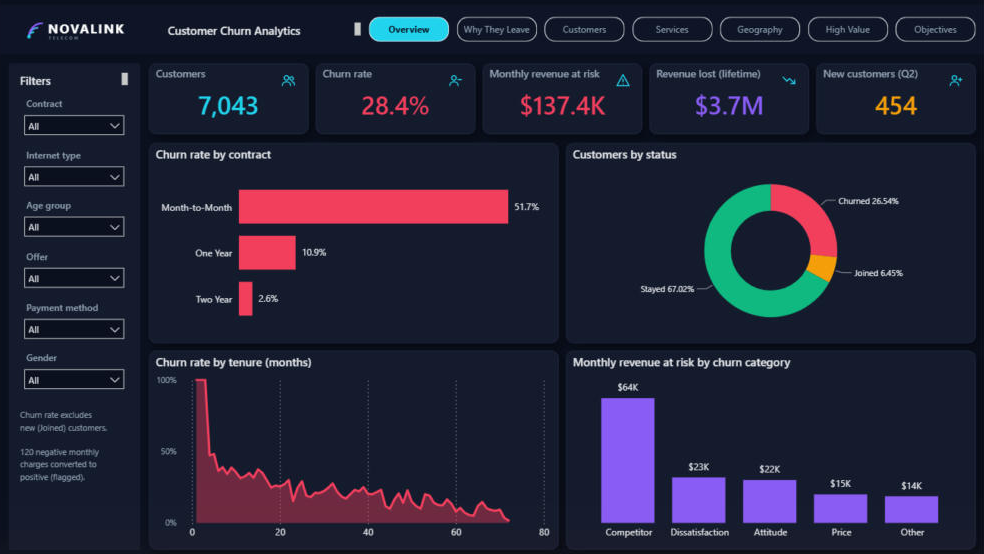

The page's visual inventory and layout, read from the dashboard file:
{"tool":"powerbi","page":{"name":"Overview","canvas":[1280,720],"ordinal":0},"visuals":[{"type":"textbox","box":[0,0,1280,64],"z":100},{"type":"image","box":[14,8,196,48],"z":200},{"type":"textbox","box":[214,18,260,32],"z":300},{"type":"pageNavigator","box":[480,16,788,32],"z":400},{"type":"textbox","box":[12,76,170,632],"z":500},{"type":"textbox","box":[22,84,150,26],"z":600},{"type":"slicer","fields":{"Values":["Customers.Contract"]},"box":[22,116,150,58],"z":700},{"type":"slicer","fields":{"Values":["Customers.Internet Type"]},"box":[22,182,150,58],"z":800},{"type":"slicer","fields":{"Values":["Customers.Age Group"]},"box":[22,248,150,58],"z":900},{"type":"slicer","fields":{"Values":["Customers.Offer"]},"box":[22,314,150,58],"z":1000},{"type":"slicer","fields":{"Values":["Customers.Payment Method"]},"box":[22,380,150,58],"z":1100},{"type":"slicer","fields":{"Values":["Customers.Gender"]},"box":[22,446,150,58],"z":1200},{"type":"textbox","box":[22,520,150,180],"z":1300},{"type":"card","title":"Customers","fields":{"Values":["Metrics.Total Customers"]},"box":[194,76,207,92],"z":1400},{"type":"image","box":[361,84,30,30],"z":1500},{"type":"card","title":"Churn rate","fields":{"Values":["Metrics.Churn Rate"]},"box":[411,76,207,92],"z":1600},{"type":"image","box":[578,84,30,30],"z":1700},{"type":"card","title":"Monthly revenue at risk","fields":{"Values":["Metrics.Monthly Revenue at Risk"]},"box":[628,76,207,92],"z":1800},{"type":"image","box":[795,84,30,30],"z":1900},{"type":"card","title":"Revenue lost (lifetime)","fields":{"Values":["Metrics.Revenue Lost"]},"box":[844,76,207,92],"z":2000},{"type":"image","box":[1011,84,30,30],"z":2100},{"type":"card","title":"New customers (Q2)","fields":{"Values":["Metrics.New Customers"]},"box":[1061,76,207,92],"z":2200},{"type":"image","box":[1228,84,30,30],"z":2300},{"type":"clusteredBarChart","title":"Churn rate by contract","fields":{"Category":["Customers.Contract"],"Y":["Metrics.Churn Rate"]},"box":[194,180,532,260],"z":2400},{"type":"donutChart","title":"Customers by status","fields":{"Category":["Customers.Customer Status"],"Y":["Metrics.Total Customers"]},"box":[736,180,532,260],"z":2500},{"type":"areaChart","title":"Churn rate by tenure (months)","fields":{"Category":["Customers.Tenure in Months"],"Y":["Metrics.Churn Rate"]},"box":[194,450,532,258],"z":2600},{"type":"clusteredColumnChart","title":"Monthly revenue at risk by churn category","fields":{"Category":["Customers.Churn Category"],"Y":["Metrics.Monthly Revenue at Risk"]},"box":[736,450,532,258],"z":2700}]}

Visuals, with their boxes in screenshot pixels (x1, y1, x2, y2), scaled from the page's 1280x720 canvas onto the 984x554 screenshot:
textbox: pyautogui.locateOnScreen(0, 0, 983, 49)
image: pyautogui.locateOnScreen(11, 6, 161, 43)
textbox: pyautogui.locateOnScreen(165, 14, 364, 38)
pageNavigator: pyautogui.locateOnScreen(369, 12, 975, 37)
textbox: pyautogui.locateOnScreen(9, 58, 140, 545)
textbox: pyautogui.locateOnScreen(17, 65, 132, 85)
slicer - Customers.Contract: pyautogui.locateOnScreen(17, 89, 132, 134)
slicer - Customers.Internet Type: pyautogui.locateOnScreen(17, 140, 132, 185)
slicer - Customers.Age Group: pyautogui.locateOnScreen(17, 191, 132, 235)
slicer - Customers.Offer: pyautogui.locateOnScreen(17, 242, 132, 286)
slicer - Customers.Payment Method: pyautogui.locateOnScreen(17, 292, 132, 337)
slicer - Customers.Gender: pyautogui.locateOnScreen(17, 343, 132, 388)
textbox: pyautogui.locateOnScreen(17, 400, 132, 539)
"Customers" card: pyautogui.locateOnScreen(149, 58, 308, 129)
image: pyautogui.locateOnScreen(278, 65, 301, 88)
"Churn rate" card: pyautogui.locateOnScreen(316, 58, 475, 129)
image: pyautogui.locateOnScreen(444, 65, 467, 88)
"Monthly revenue at risk" card: pyautogui.locateOnScreen(483, 58, 642, 129)
image: pyautogui.locateOnScreen(611, 65, 634, 88)
"Revenue lost (lifetime)" card: pyautogui.locateOnScreen(649, 58, 808, 129)
image: pyautogui.locateOnScreen(777, 65, 800, 88)
"New customers (Q2)" card: pyautogui.locateOnScreen(816, 58, 975, 129)
image: pyautogui.locateOnScreen(944, 65, 967, 88)
"Churn rate by contract" clusteredBarChart: pyautogui.locateOnScreen(149, 138, 558, 339)
"Customers by status" donutChart: pyautogui.locateOnScreen(566, 138, 975, 339)
"Churn rate by tenure (months)" areaChart: pyautogui.locateOnScreen(149, 346, 558, 545)
"Monthly revenue at risk by churn category" clusteredColumnChart: pyautogui.locateOnScreen(566, 346, 975, 545)
